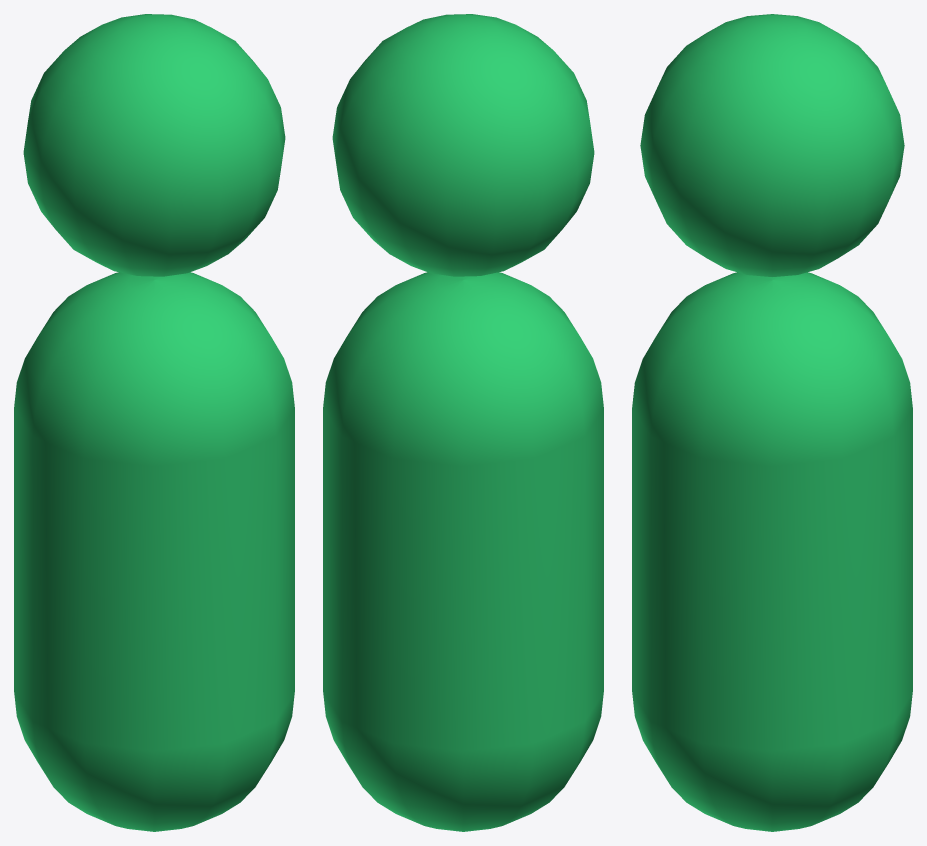
File: pictogram_person_green.glb
The picture shows the model from 3 angles, left to right: view 1: azimuth 30°, elevation 25°; view 2: azimuth 150°, elevation 25°; view 3: azimuth 270°, elevation 25°; orthographic projection.
Parts seen in each view (by area): view 1: PictogramPerson; view 2: PictogramPerson; view 3: PictogramPerson.
Part boxes in pixels (x1,y1,x2,y2): PictogramPerson: [14, 14, 294, 831]; PictogramPerson: [323, 14, 603, 831]; PictogramPerson: [632, 14, 912, 831].
Size of the model in its own units: 0.34 by 1.06 by 0.34.
